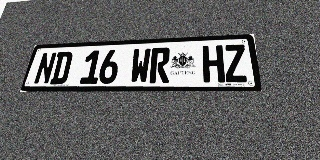1: (80, 50, 103, 84)
6: (98, 49, 121, 84)
D: (49, 51, 74, 84)
H: (202, 45, 225, 83)
N: (33, 52, 57, 84)
R: (149, 47, 170, 83)
W: (129, 48, 151, 83)
Z: (223, 44, 249, 82)
